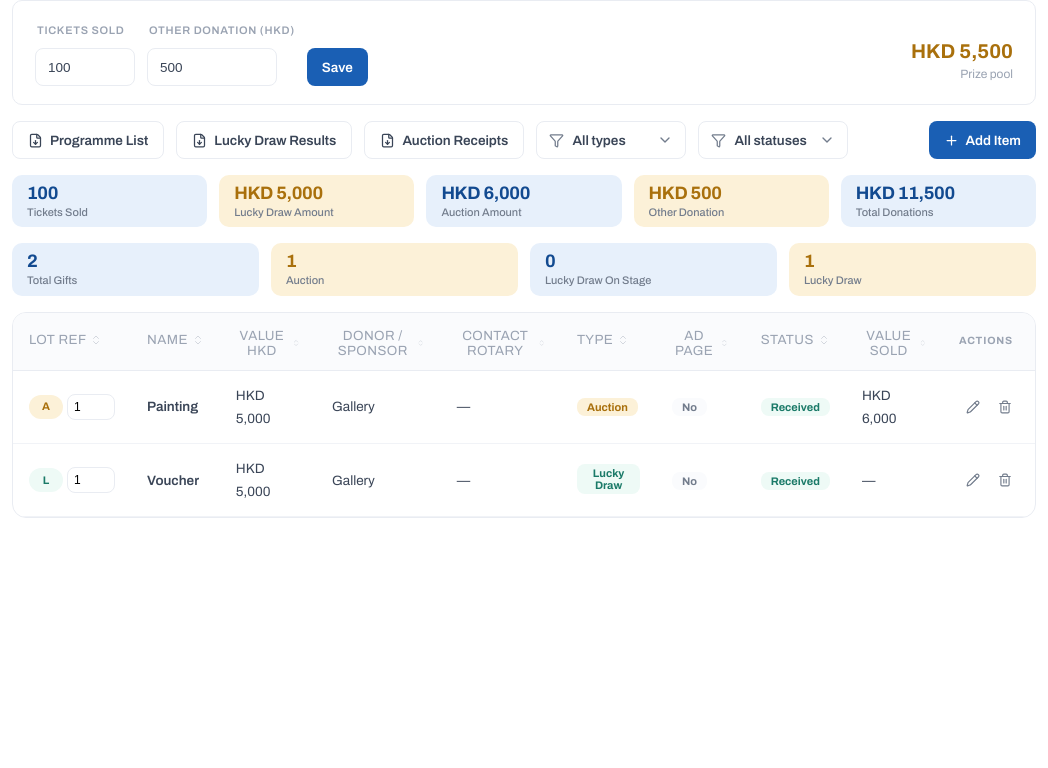
Test case: EventLuckyDraw › Reports › shows an error if a report fails to generate
Step 1. Click the button "Auction Receipts" → [444, 140], box [364, 121, 524, 159]
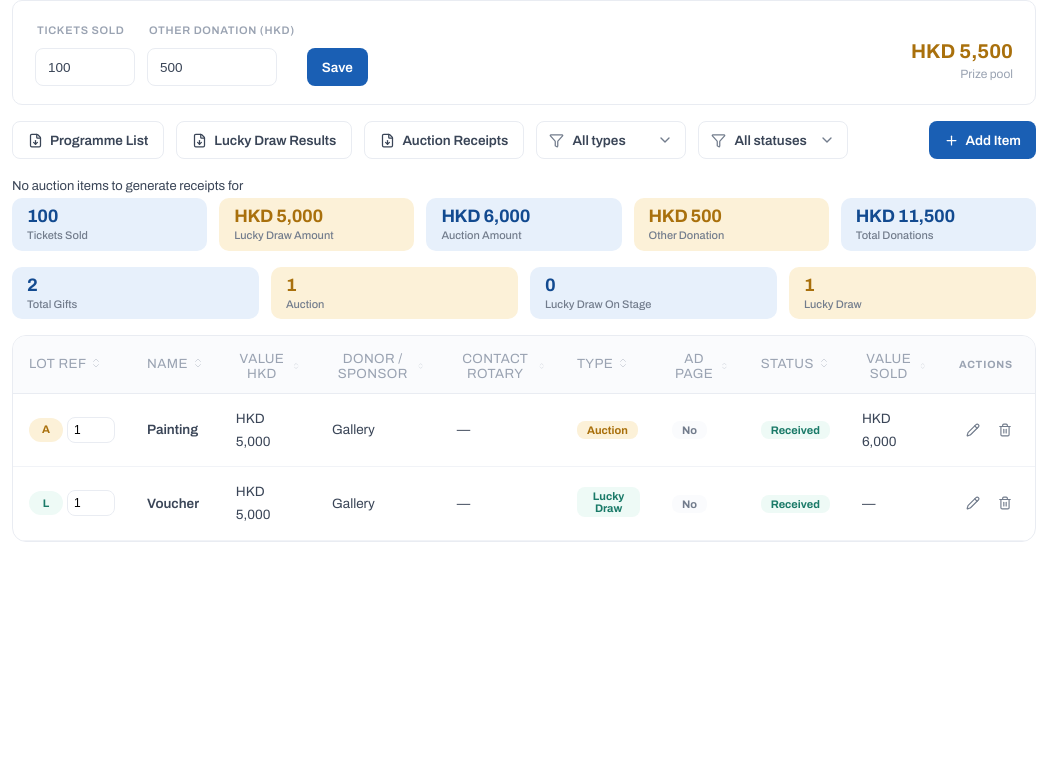
Expected: the message reads "No auction items to generate receipts for", [12, 179, 243, 193]
